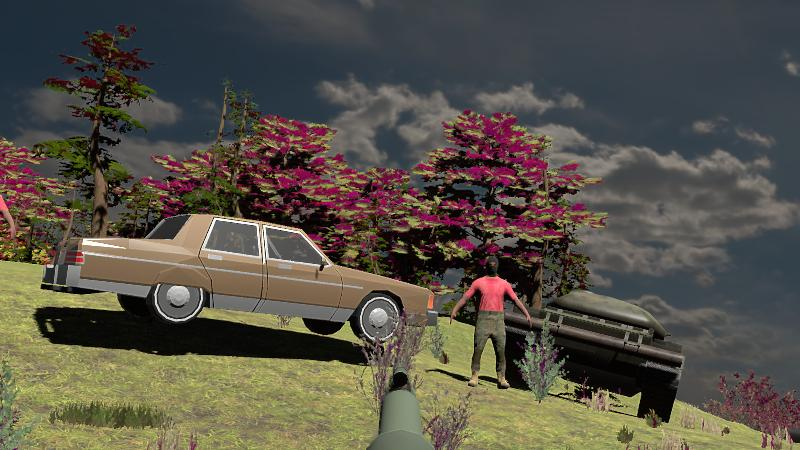Human: (451, 252, 532, 390)
Tank: (497, 288, 685, 421)
car: (41, 215, 433, 342)
